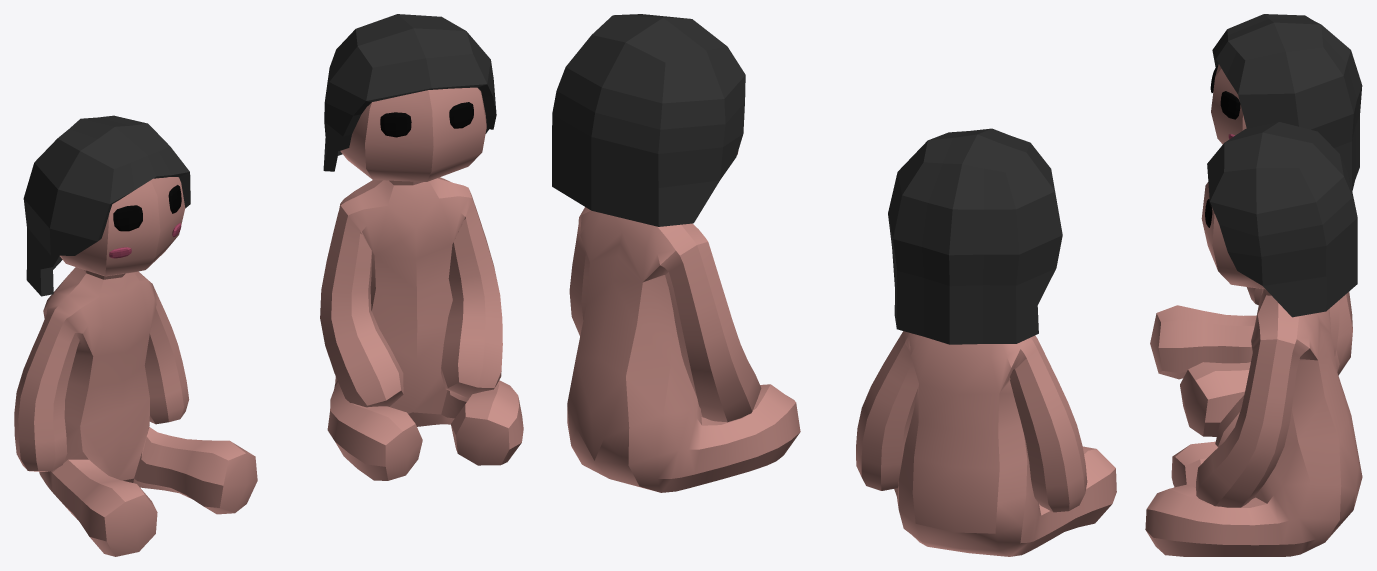
Rendered from Doll.glb.
3 renders of one model, left to right at view 1: azimuth 30°, elevation 25°; view 2: azimuth 150°, elevation 25°; view 3: azimuth 270°, elevation 25°, orthographic. The views are drawn at different scales.
Visible parts, largest first — view 1: FemaleDoll, FemaleDoll.002, FemaleDoll.001; view 2: FemaleDoll, FemaleDoll.002; view 3: FemaleDoll, FemaleDoll.002, FemaleDoll.001.
Boxes of the visible parts, bbox=[...] form: FemaleDoll: bbox=[14, 87, 523, 556]; FemaleDoll.002: bbox=[23, 14, 496, 296]; FemaleDoll.001: bbox=[109, 102, 473, 258]; FemaleDoll: bbox=[567, 150, 1116, 556]; FemaleDoll.002: bbox=[552, 14, 1062, 344]; FemaleDoll: bbox=[1145, 64, 1362, 556]; FemaleDoll.002: bbox=[1207, 14, 1362, 317]; FemaleDoll.001: bbox=[1205, 65, 1240, 227].
Bounding box in the file's own units: 0.6313 × 0.5273 × 0.2558.
